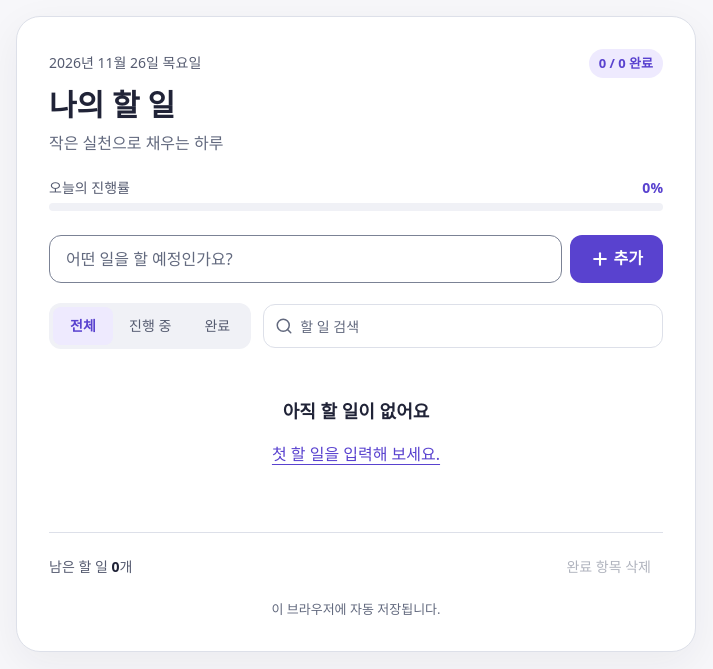
Scenario: TodoApp 통합 컴포넌트 테스트 › 새로고침(컴포넌트 재마운트) 후 localStorage에 저장된 데이터가 복원된다
Later steps or results of the test are not shown.
Type "새로고침 복원 테스트" into the field with placeholder "어떤 일을 할 예정인가요?". click: (305, 259)
box: [49, 235, 562, 283]
Then press Enter
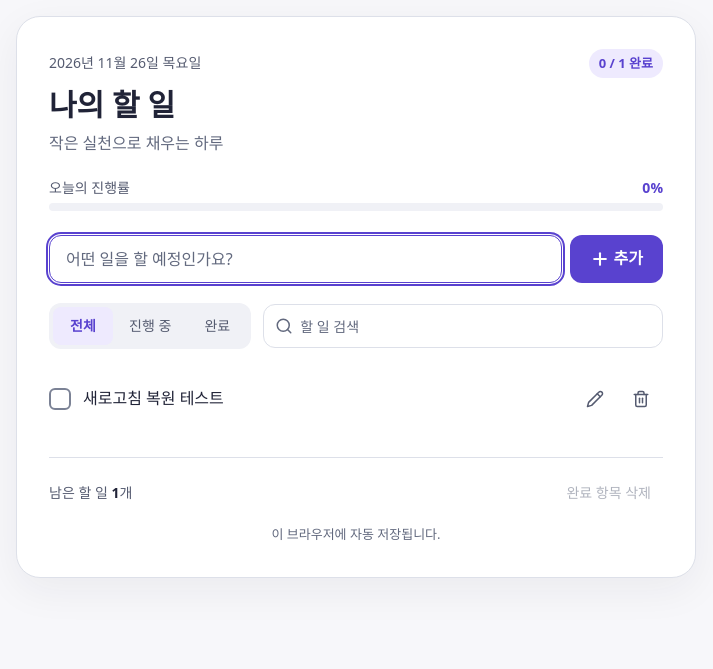
Check: the text "새로고침 복원 테스트" is shown, box [83, 388, 224, 410]
